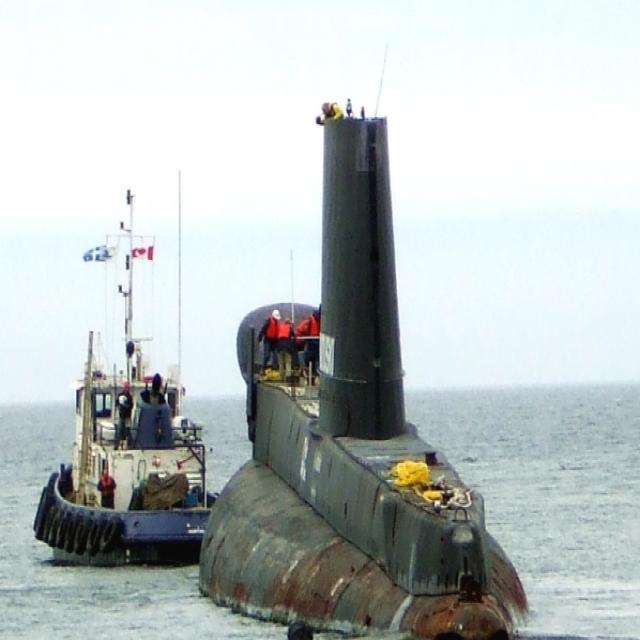submarine: (195, 95, 522, 640)
